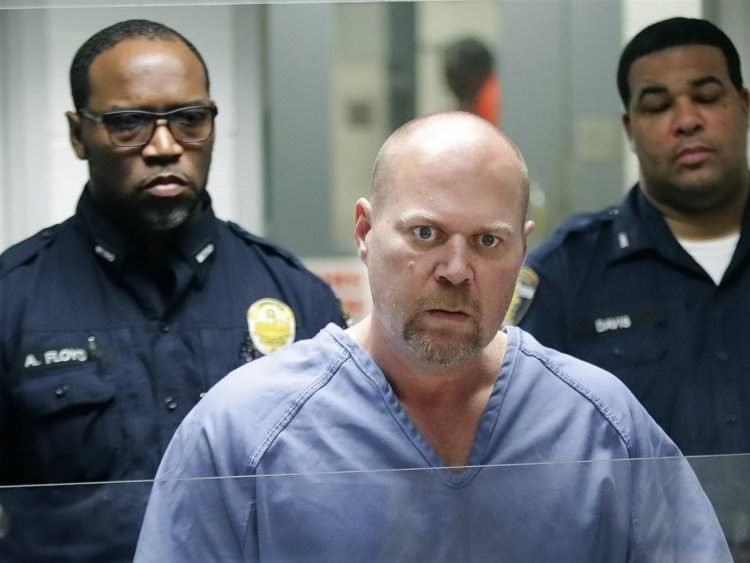face_no_mask: (354, 110, 532, 366), (77, 34, 217, 224), (613, 15, 749, 194)
